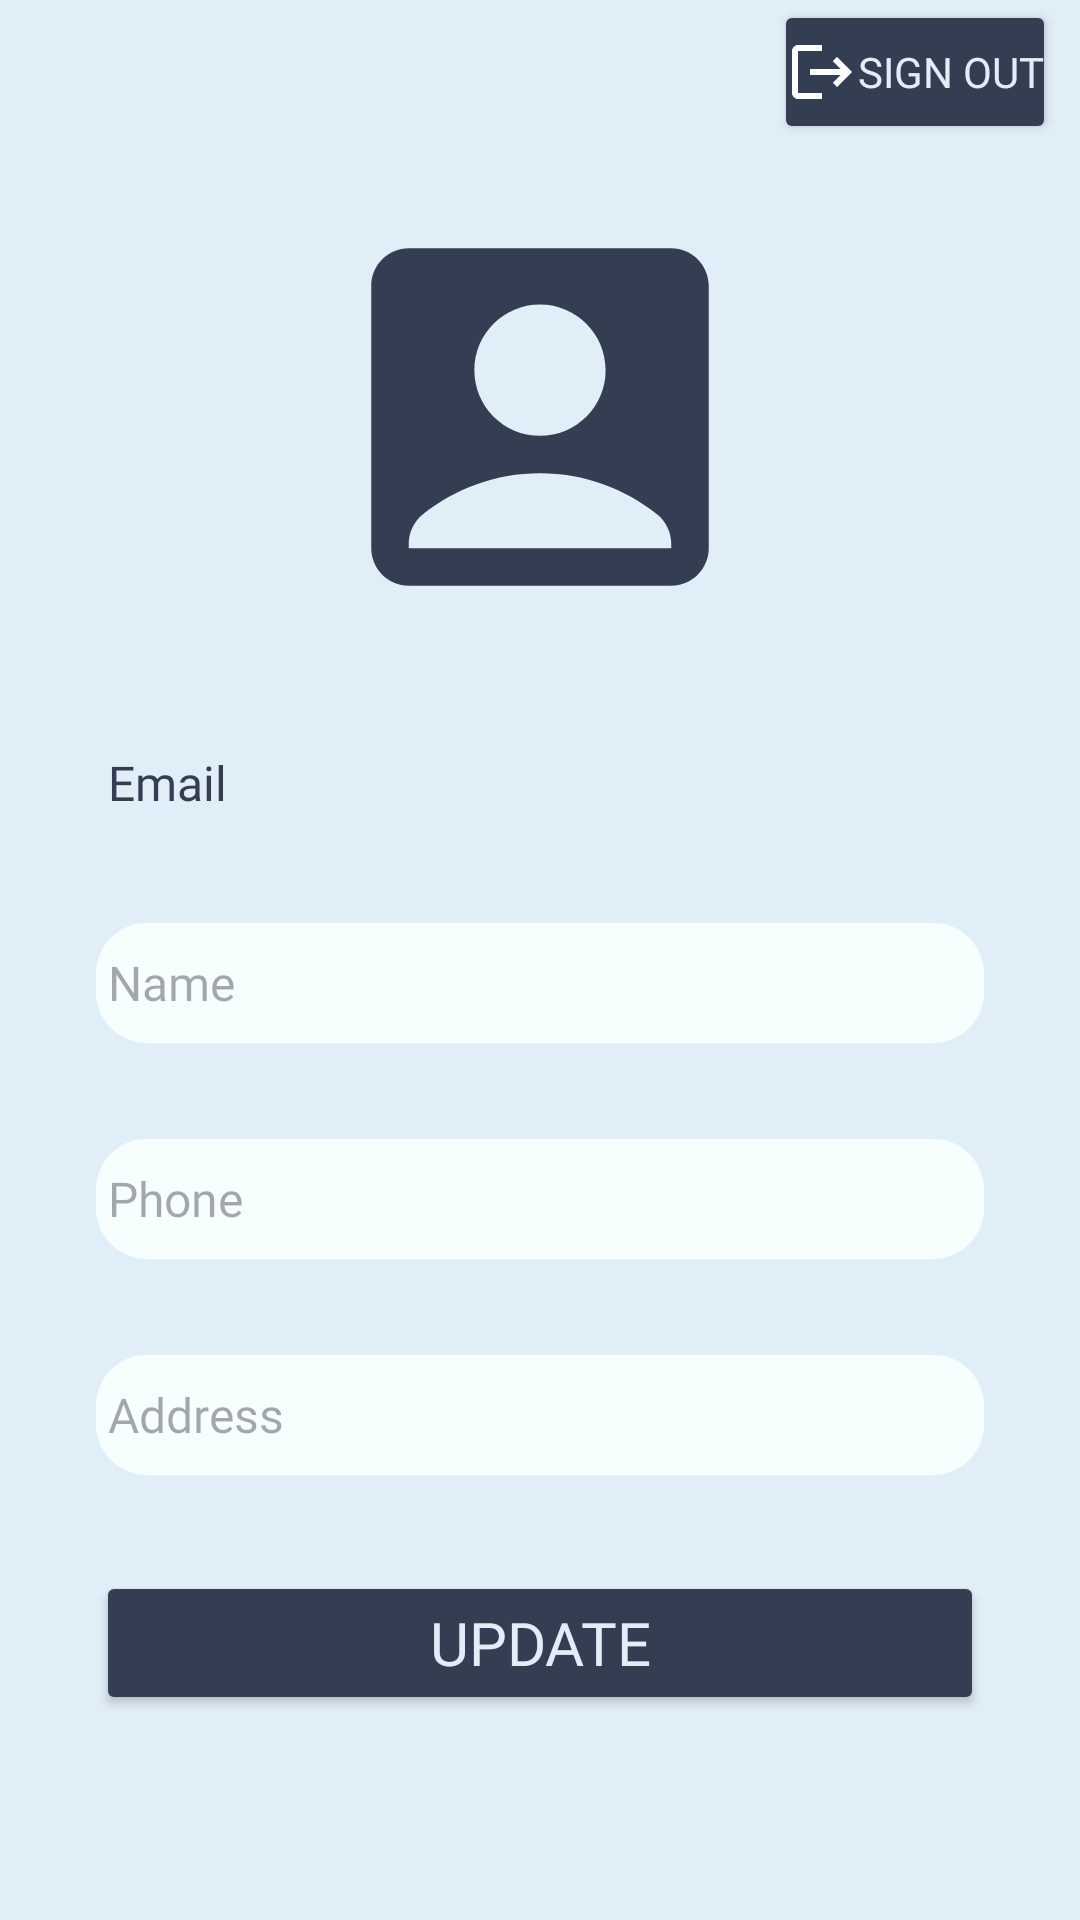

Screen size 1080w x 1920h. Icon name, then its box in pixels as detection(x1, y1, x2, y2):
account box: detection(371, 248, 709, 586)
